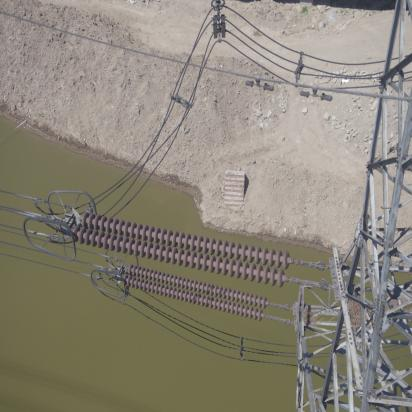insulator: (68, 209, 312, 291), (118, 263, 277, 323)
